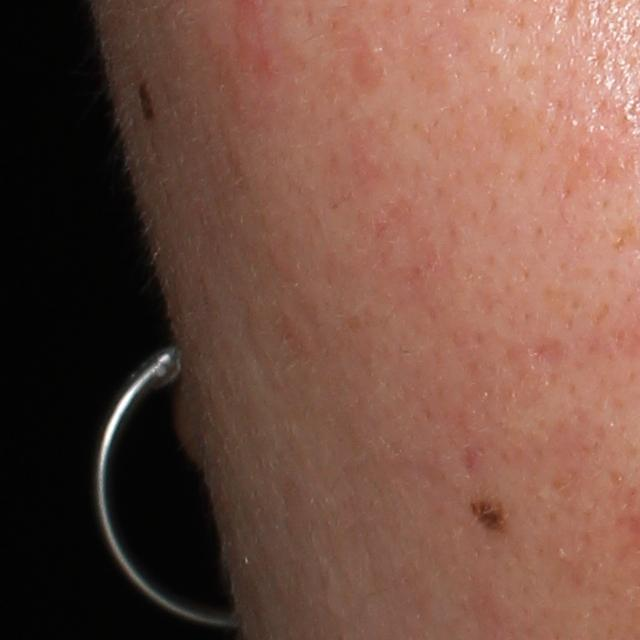atrophic_scar: (526, 332, 566, 375)
nevus: (465, 492, 512, 537), (137, 78, 161, 119)
